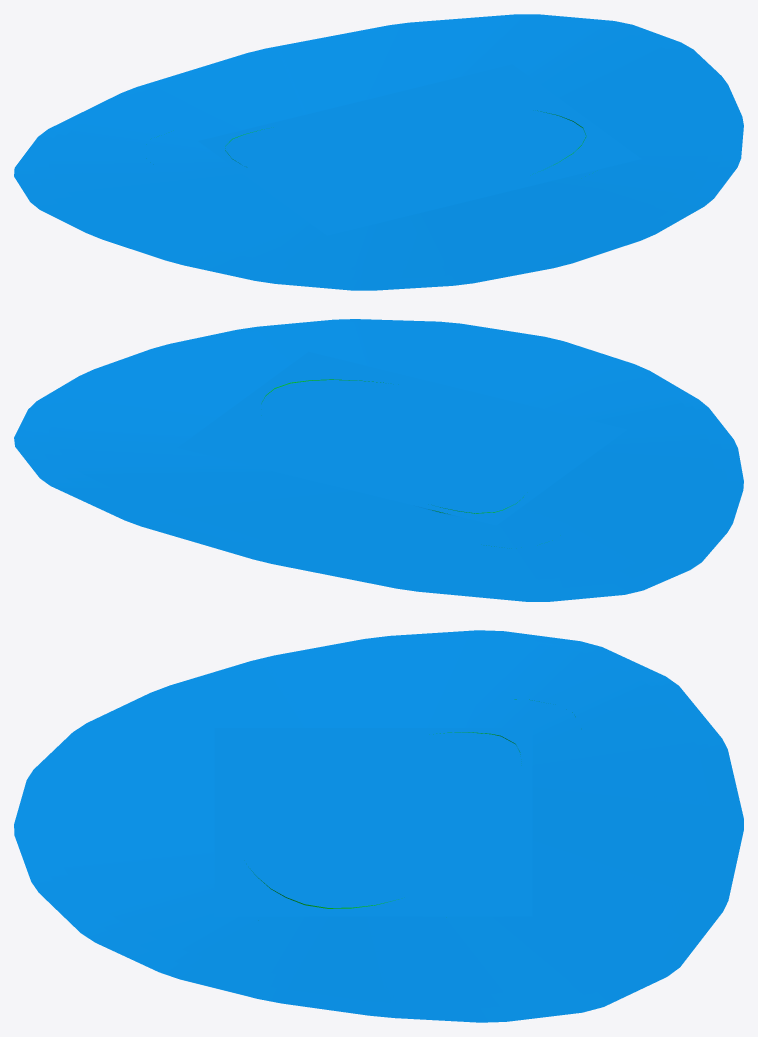
File: SM_Hall_Auditorium_Roof.fbx
3 renders of one model, top to bottom at view 1: azimuth 30°, elevation 25°; view 2: azimuth 150°, elevation 25°; view 3: azimuth 270°, elevation 25°, orthographic. The views are drawn at different scales.
Parts seen in each view (by area): view 1: SM_Hall_Auditorium_Roof; view 2: SM_Hall_Auditorium_Roof; view 3: SM_Hall_Auditorium_Roof.
Boxes of the visible parts, x1,y1,x2,y2 form: SM_Hall_Auditorium_Roof: (14, 14, 743, 290); SM_Hall_Auditorium_Roof: (14, 319, 743, 601); SM_Hall_Auditorium_Roof: (14, 630, 743, 1022).
Bounding box in the file's own units: 5749 × 123 × 4519.
